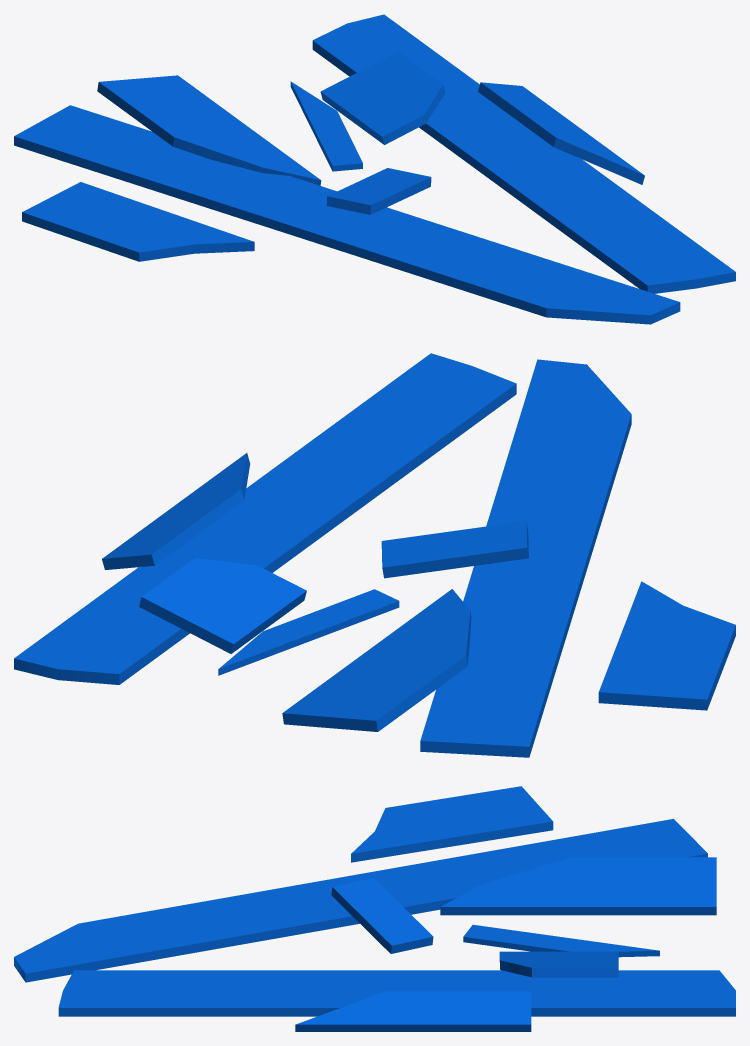
The model's file is Debris_Wood_01.fbx.
3 renders of one model, top to bottom at view 1: azimuth 30°, elevation 25°; view 2: azimuth 150°, elevation 25°; view 3: azimuth 270°, elevation 25°, orthographic. The views are drawn at different scales.
Visible parts, largest first — view 1: Debris_Wood_01; view 2: Debris_Wood_01; view 3: Debris_Wood_01.
Boxes of the visible parts, left/top/right/bottom form: Debris_Wood_01: left=14, top=14, right=735, bottom=324; Debris_Wood_01: left=14, top=353, right=735, bottom=757; Debris_Wood_01: left=14, top=786, right=735, bottom=1031.
Size of the model in its own units: 111 by 6.27 by 142.
